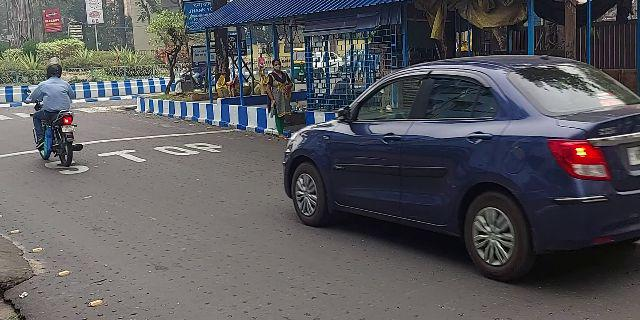Car: (282, 53, 640, 284)
Motorbike: (25, 58, 87, 175)
